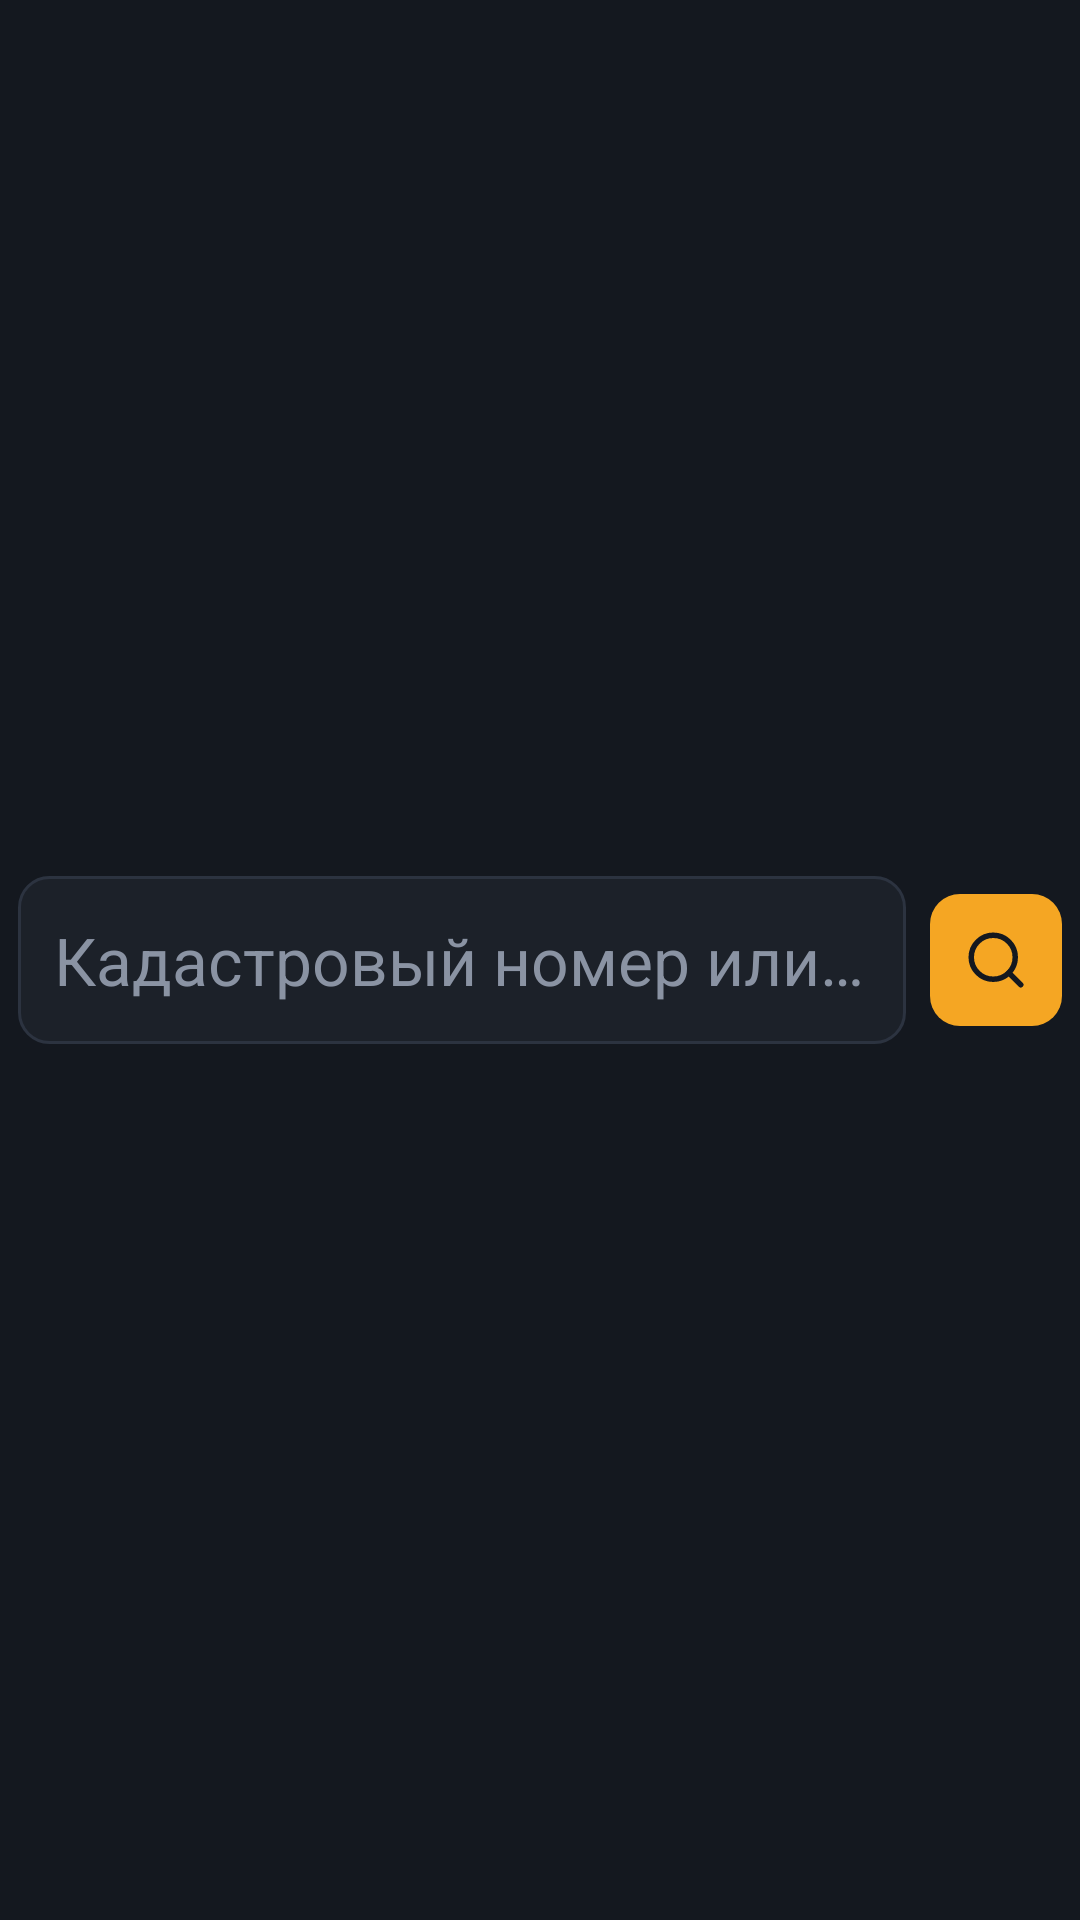

Named icons in this screenshot (1080x1920) and their bounding boxes, (left=x1, top=y1, right=x2, bottom=y2):
Найти: (left=930, top=894, right=1062, bottom=1026)
